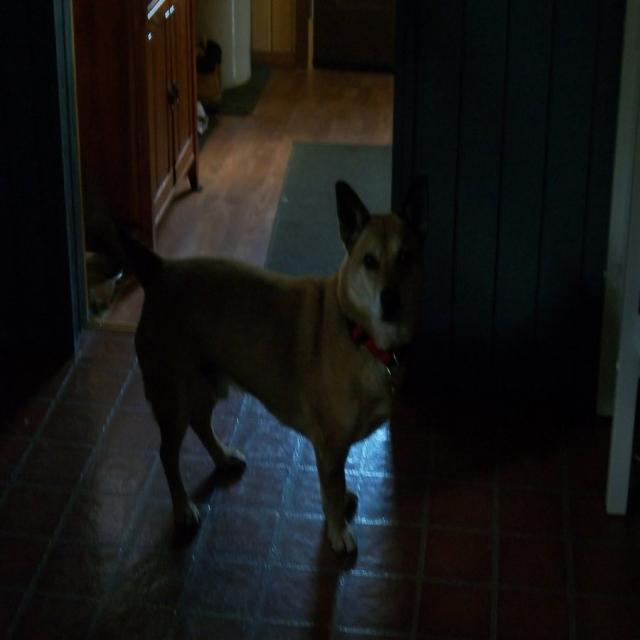dog: (101, 200, 449, 534)
